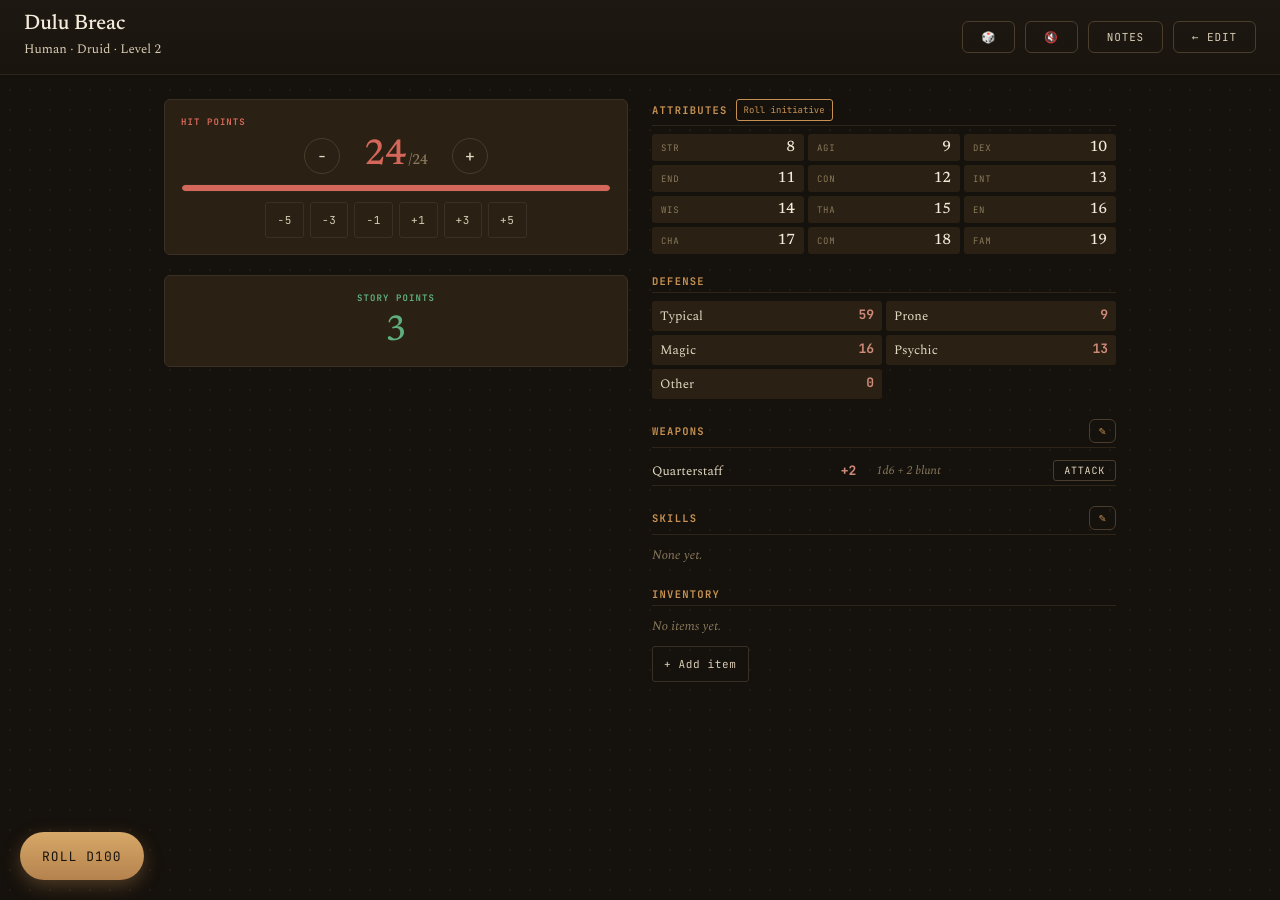
Scenario: Roll banner explains its numbers (#372) › names Agility as the initiative modifier
Click the button "Roll initiative" at (784, 110), box [736, 99, 833, 121]
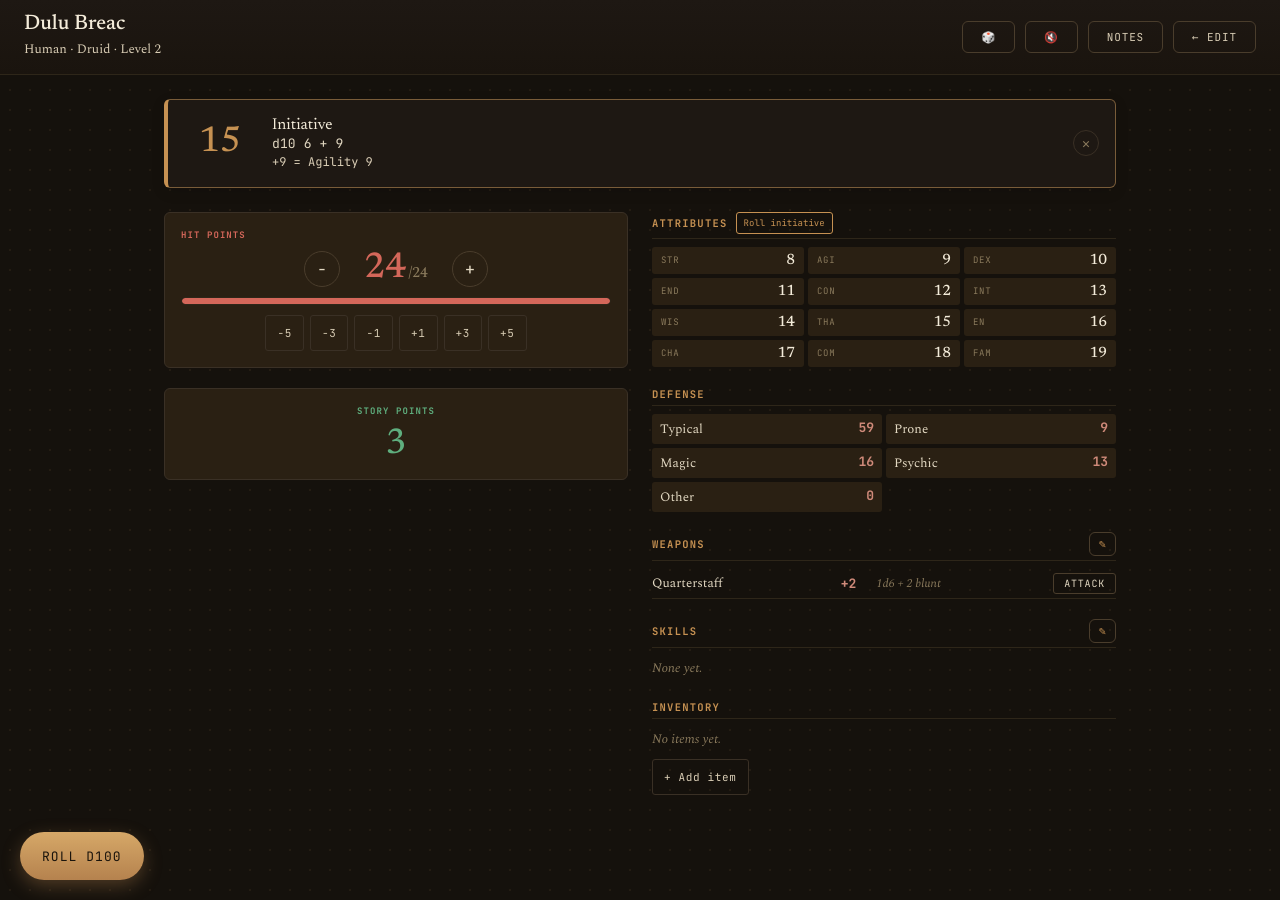
Expected: the message "15 Initiative d10 6 + 9 +9 = Agility 9 ✕" is shown, [164, 99, 1116, 188]
